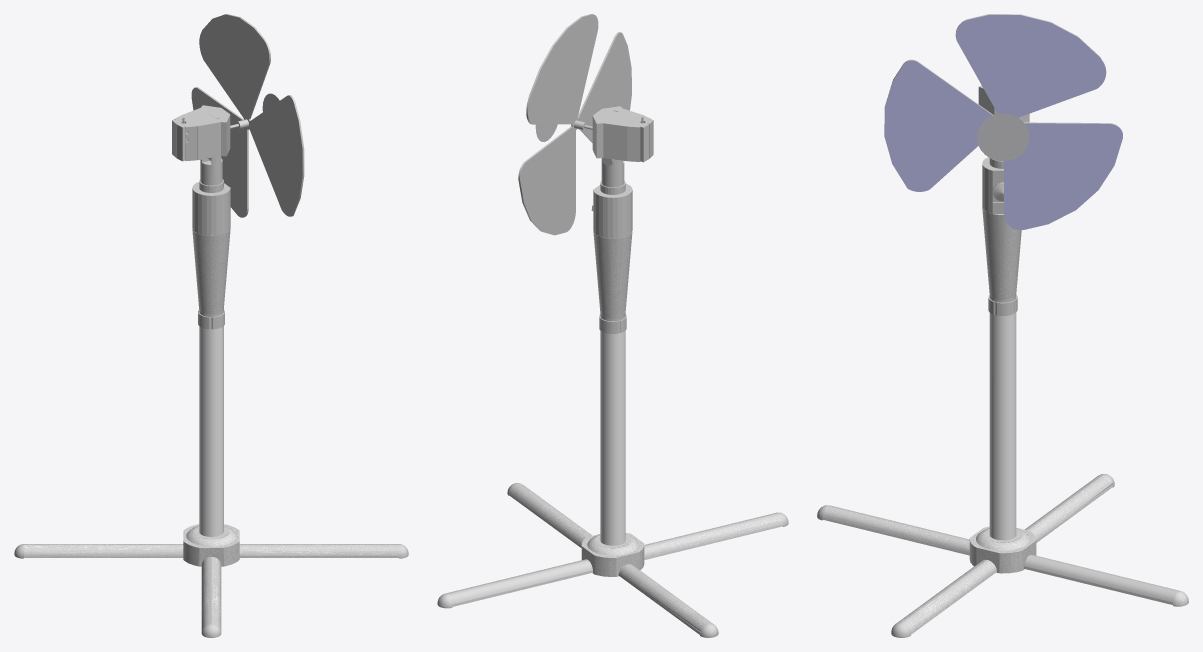
Rendered from Ventilador2.dae.
3 renders of one model, left to right at view 1: azimuth 30°, elevation 25°; view 2: azimuth 150°, elevation 25°; view 3: azimuth 270°, elevation 25°, orthographic. The views are drawn at different scales.
Parts seen in each view (by area): view 1: SketchUp (×6); view 2: SketchUp (×7); view 3: SketchUp (×11).
Boxes of the visible parts, x1,y1,x2,y2 form: SketchUp (×6): (14,14,408,637); SketchUp (×7): (437,14,788,637); SketchUp (×11): (817,14,1188,637).
Size of the model in its own units: 22.96 by 22.96 by 38.47.
